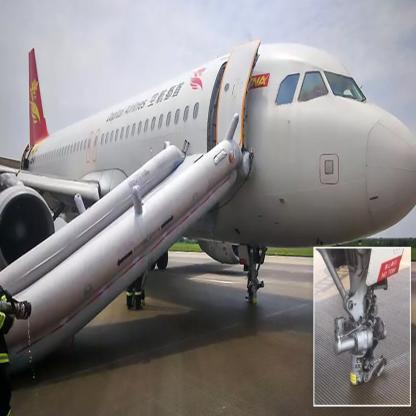CIV_Plane: (4, 48, 415, 400)
